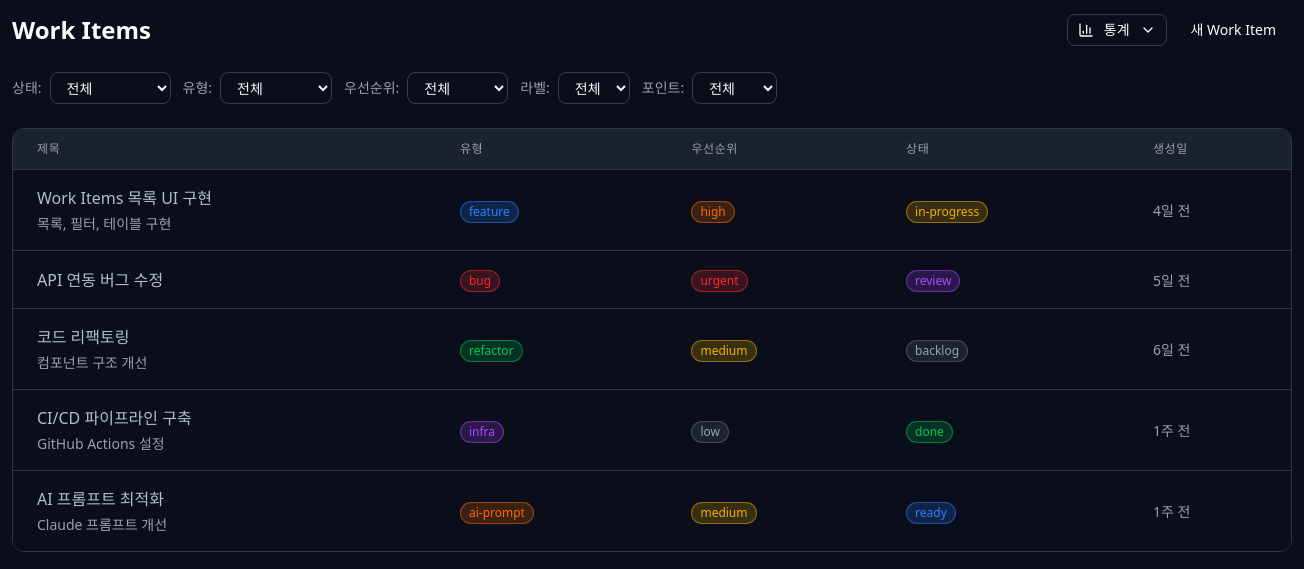
WorkItemsPage › 필터 기능 › 상태 필터링 동작 (backlog만 표시)
# 상태 필터에서 "backlog" 선택 (id로 검색)
Select "backlog" in the dropdown with id "status-filter" at (110, 88), box x1=50 y1=72 x2=170 y2=104
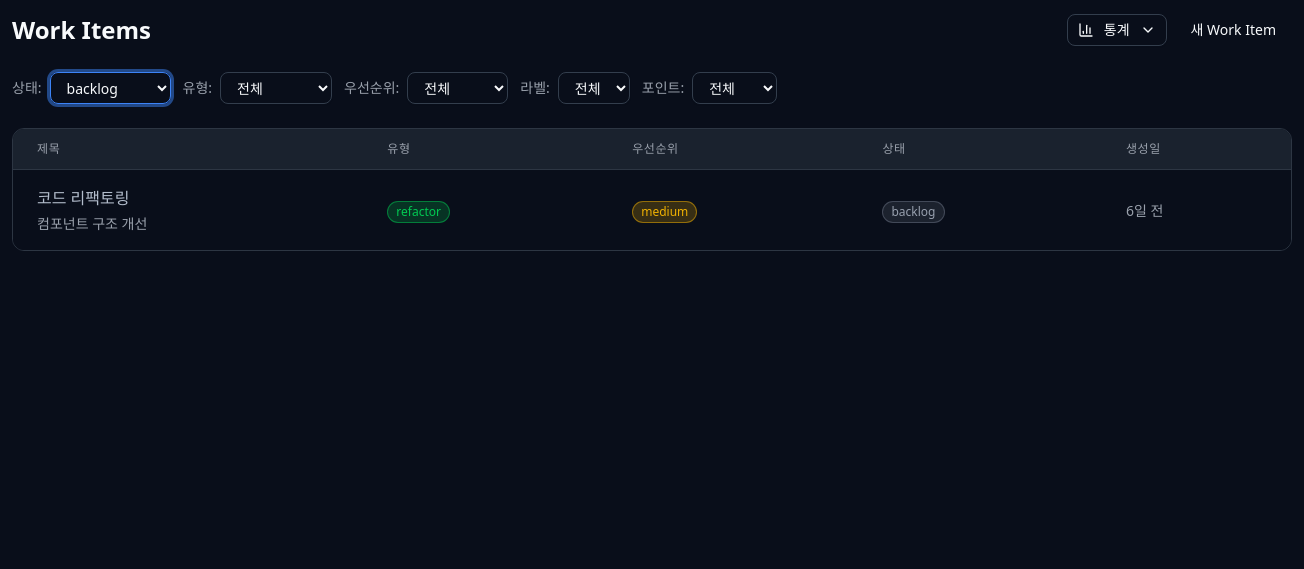
Result: the text "Work Items 목록 UI 구현" is gone
Result: the text "API 연동 버그 수정" is gone
